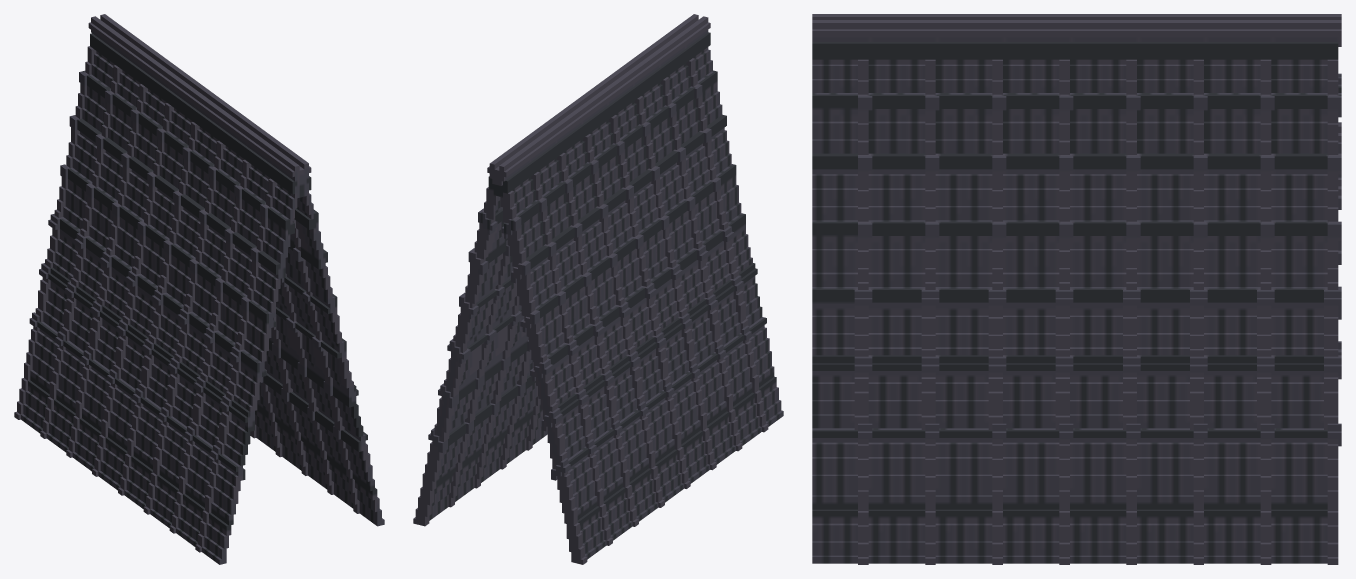
Rendered from Rooftop-4.fbx.
3 renders of one model, left to right at view 1: azimuth 30°, elevation 25°; view 2: azimuth 150°, elevation 25°; view 3: azimuth 270°, elevation 25°, orthographic. The views are drawn at different scales.
Visible parts, largest first — view 1: Rooftop-4; view 2: Rooftop-4; view 3: Rooftop-4.
Boxes of the visible parts, x1,y1,x2,y2 form: Rooftop-4: (14,14,384,564); Rooftop-4: (413,14,783,564); Rooftop-4: (812,14,1341,564).
Size of the model in its own units: 360 by 770 by 750.
